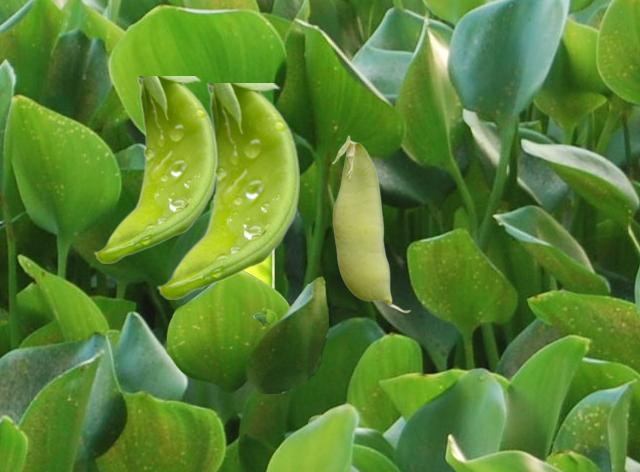pea: (156, 83, 298, 298), (93, 76, 214, 262), (331, 135, 410, 312), (247, 253, 273, 286)
